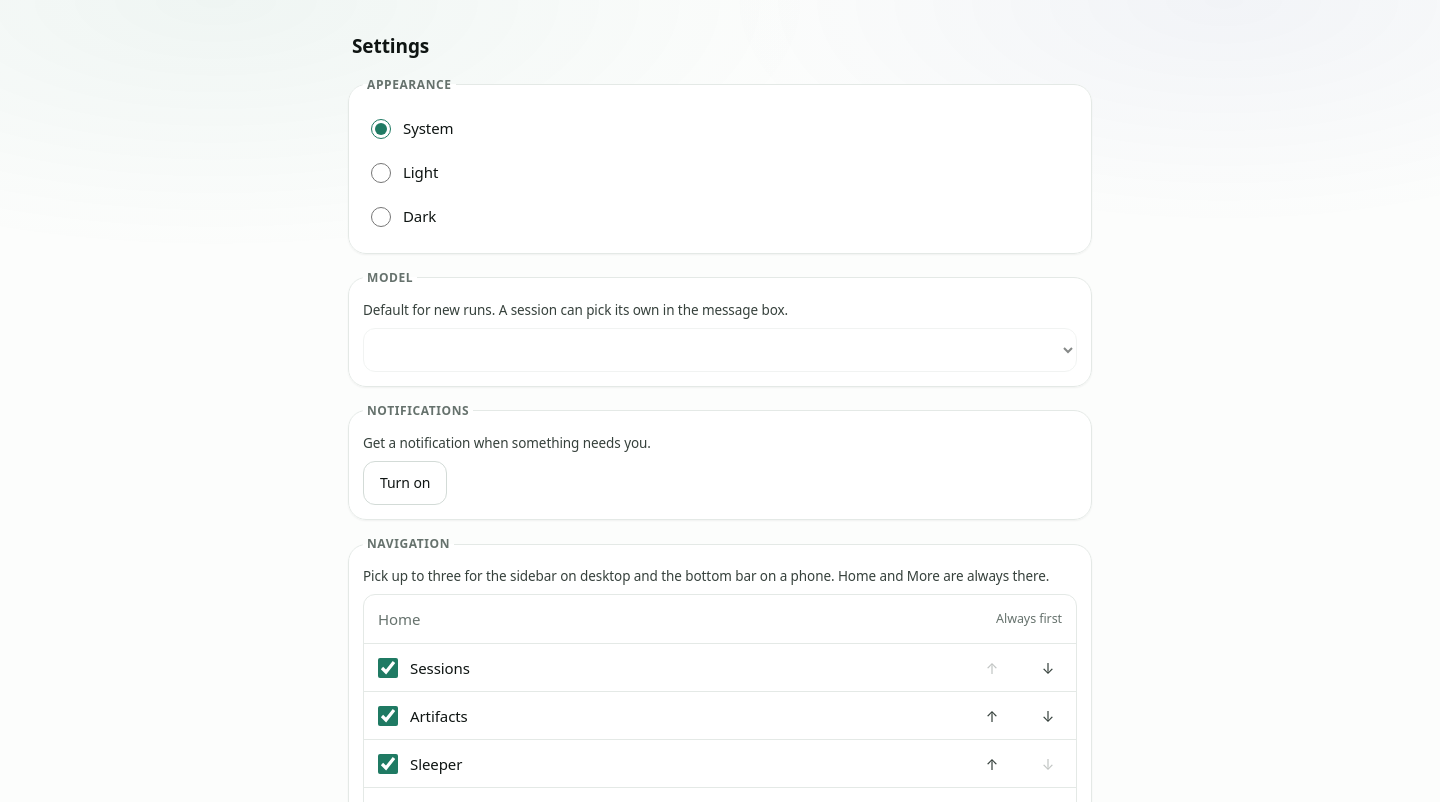
Test: turning notifications on subscribes and stores the subscription on the server
Click the button "Turn on" at (405, 483), box [363,461,447,505]
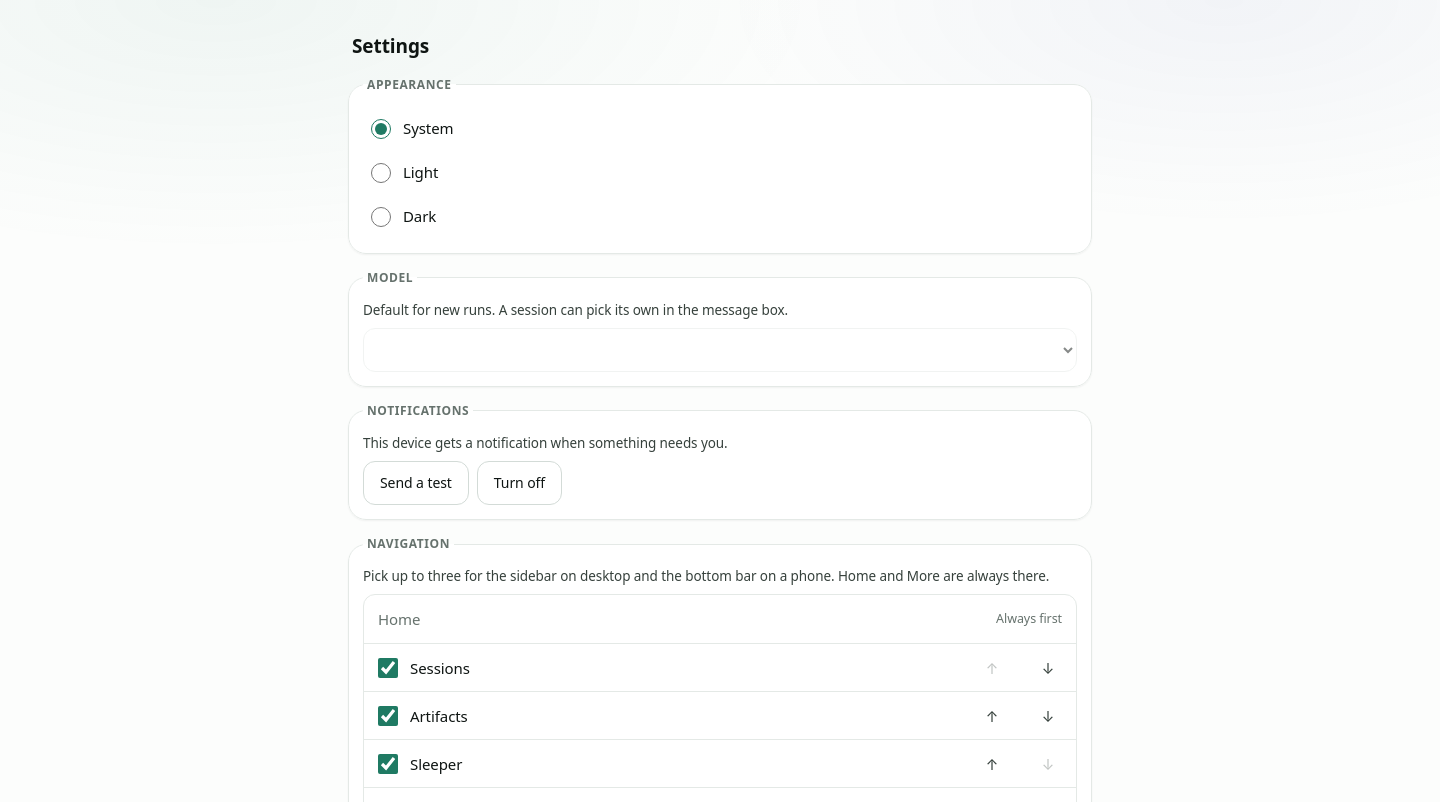
Now the button "Turn off" is shown, box [477,461,562,505]
